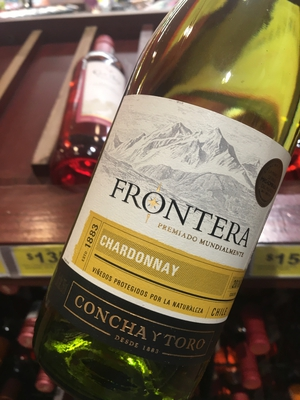frontera chardonnay: (52, 32, 300, 368)
